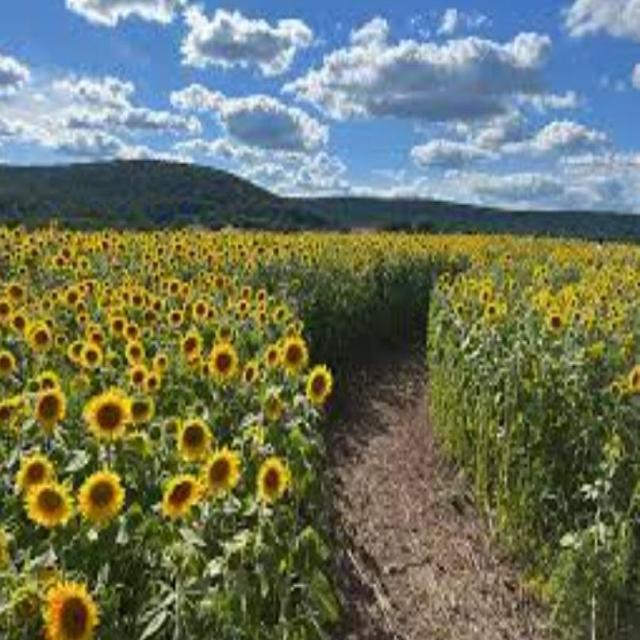row: (319, 328, 611, 640)
